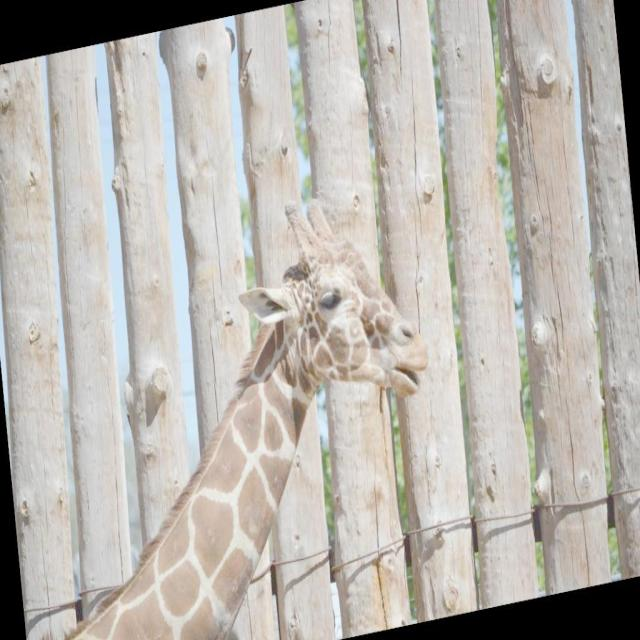Giraffe: (64, 195, 428, 640)
